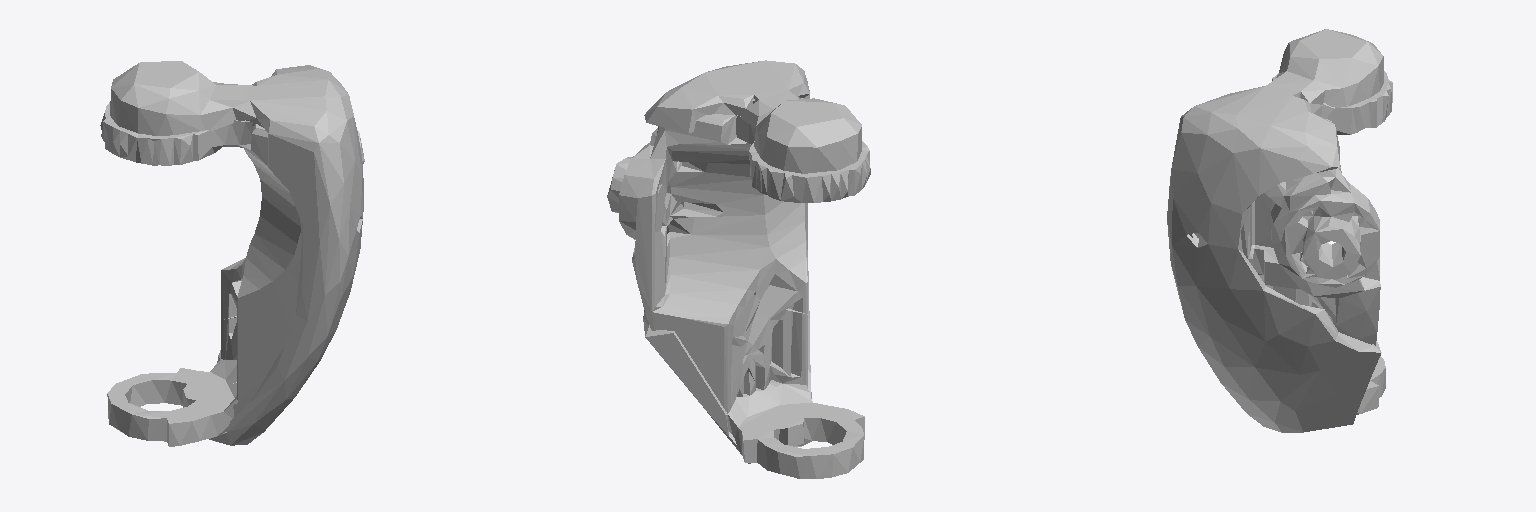
Rendered from LYawPitch.obj.
3 views of the same model, side by side, from view 1: azimuth 30°, elevation 25°; view 2: azimuth 150°, elevation 25°; view 3: azimuth 270°, elevation 25° (orthographic).
Visible parts, largest first — view 1: root; view 2: root; view 3: root.
Boxes of the visible parts, box(x1,y1,x2,y2) form: root: box(100, 61, 364, 446); root: box(607, 60, 870, 478); root: box(1167, 29, 1392, 432).
Size of the model in its own units: 64.64 by 91.31 by 52.3.